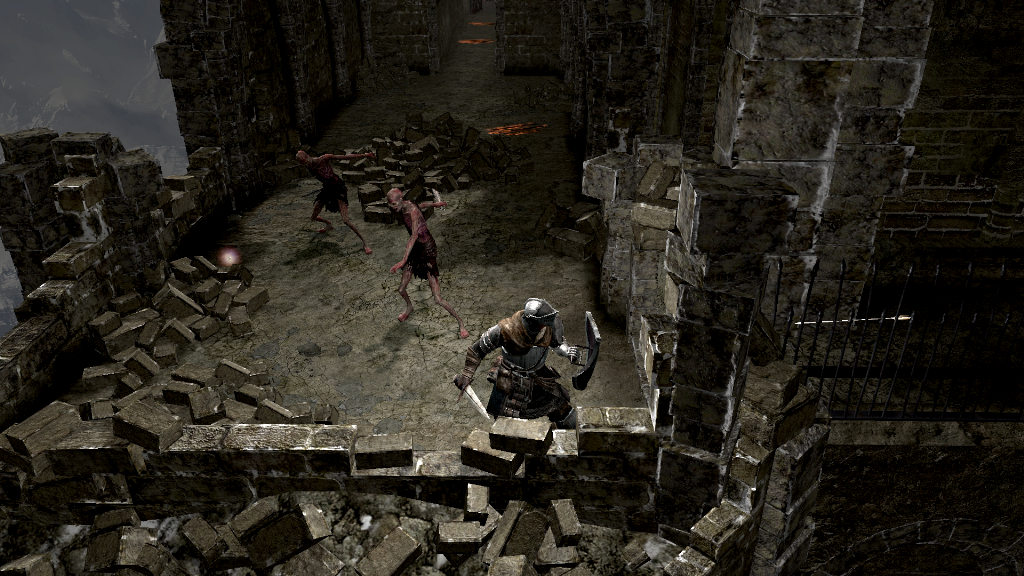hollow: (386, 187, 469, 340), (293, 148, 377, 254)
player: (453, 296, 605, 429)
